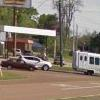Bus: (70, 46, 100, 76)
